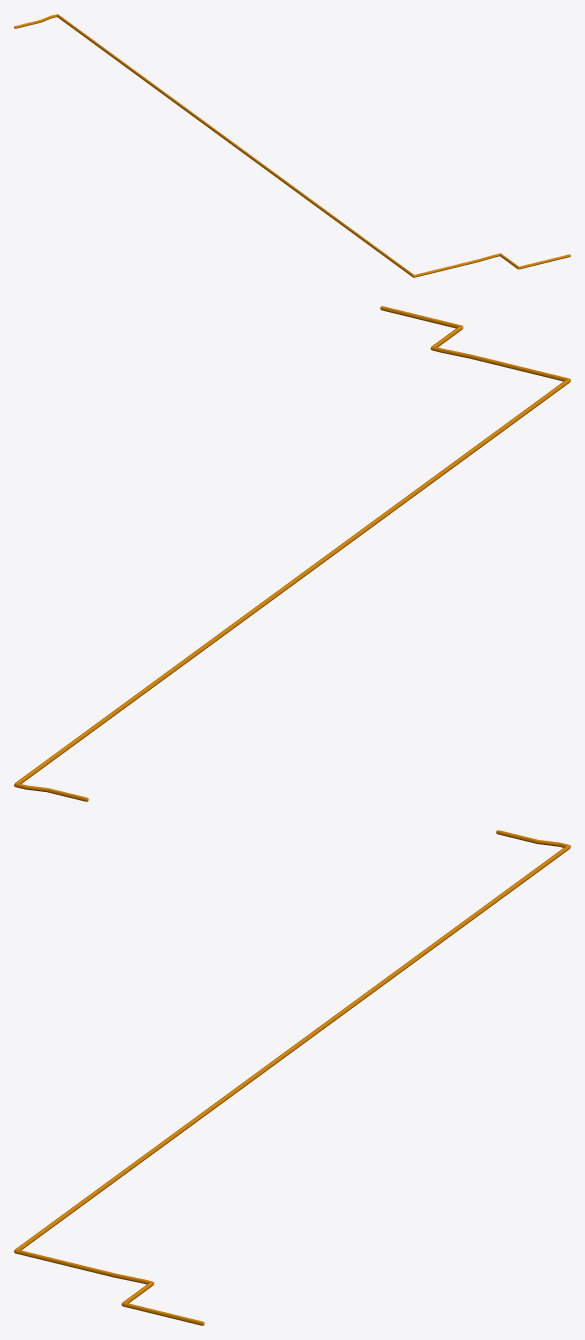
3 views of the same model, one above another, from view 1: azimuth 30°, elevation 25°; view 2: azimuth 150°, elevation 25°; view 3: azimuth 330°, elevation 25° (orthographic). The views are drawn at different scales.
Size of the model in its own units: 1448 by 20 by 5111.
